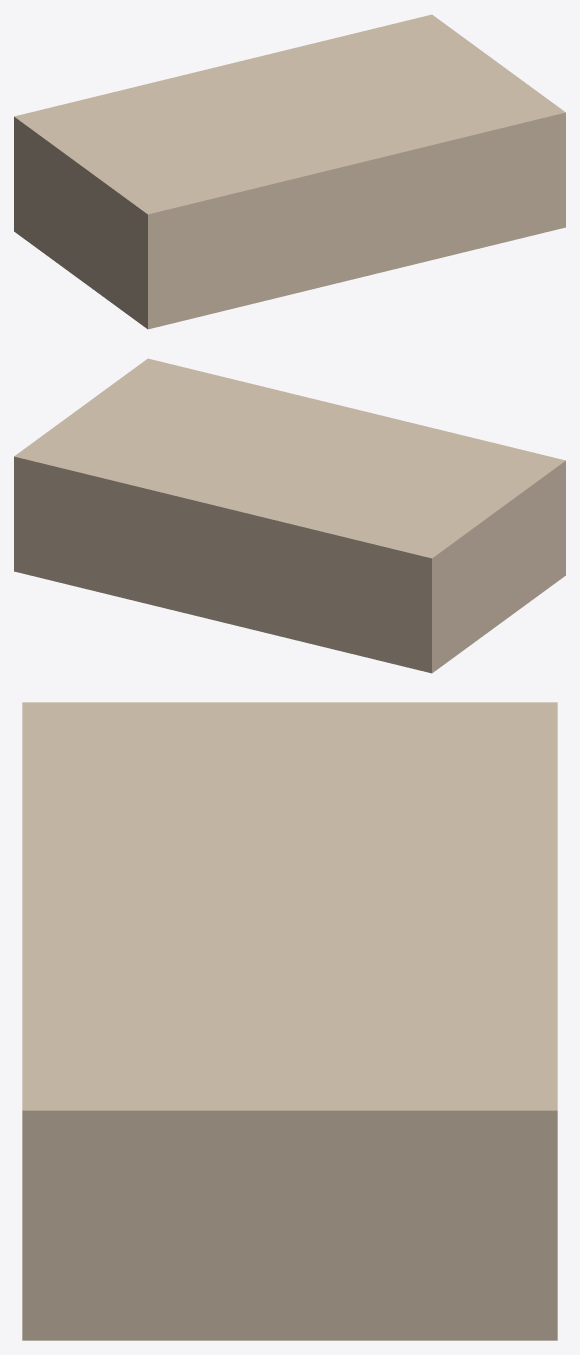
Rendered from marlow-travertine-table.glb.
The picture shows the model from 3 angles, top to bottom: view 1: azimuth 30°, elevation 25°; view 2: azimuth 150°, elevation 25°; view 3: azimuth 270°, elevation 25°; orthographic projection. The views are drawn at different scales.
Parts seen in each view (by area): view 1: marlow-travertine-table-placeholder; view 2: marlow-travertine-table-placeholder; view 3: marlow-travertine-table-placeholder.
Part boxes in pixels (x1,y1,x2,y2): marlow-travertine-table-placeholder: [14, 14, 565, 329]; marlow-travertine-table-placeholder: [14, 358, 565, 673]; marlow-travertine-table-placeholder: [22, 702, 557, 1340].
Bounding box in the file's own units: 1.37 × 0.36 × 0.76.
